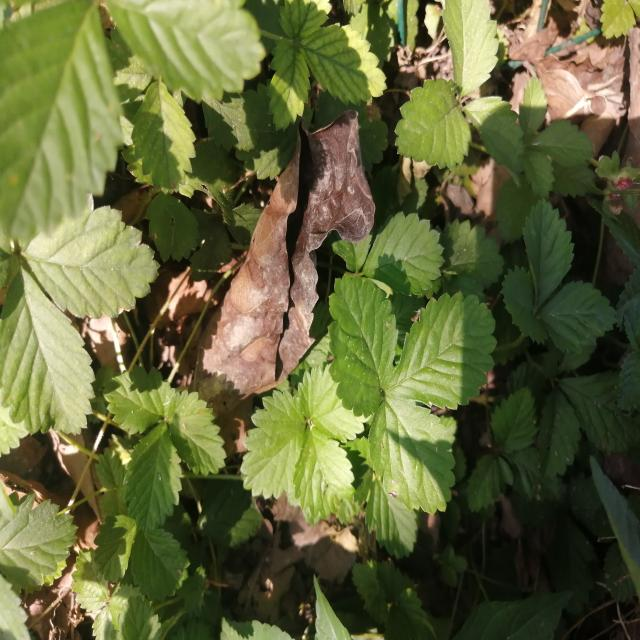Mock_strawberry: (262, 268, 481, 545)
